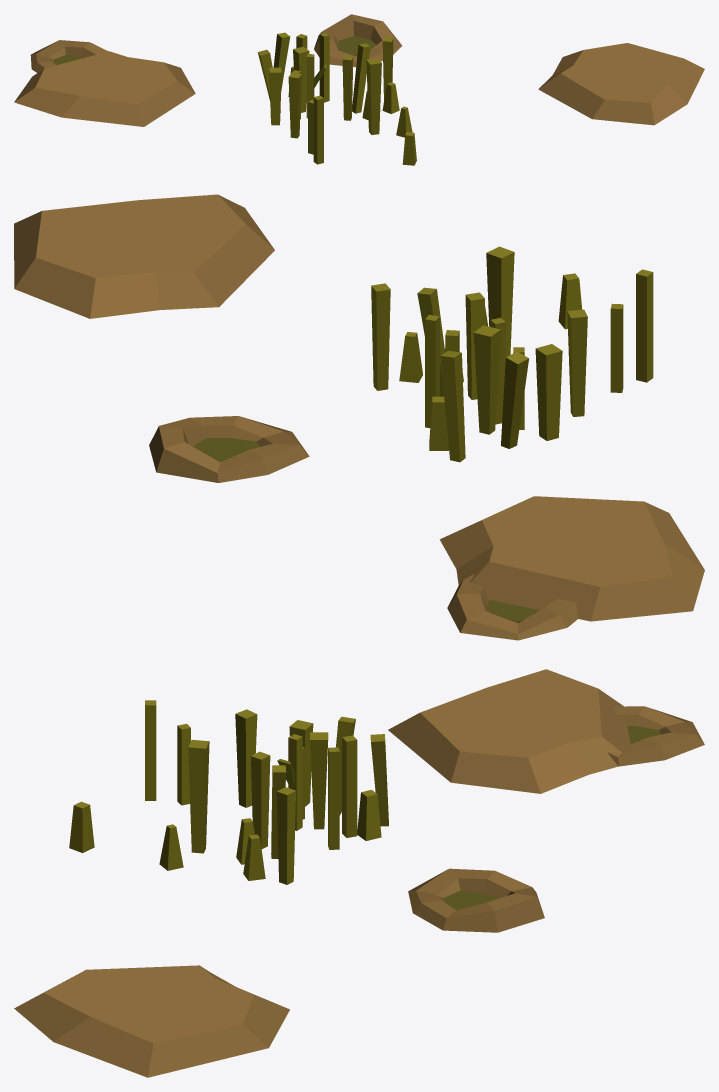
The model's file is SF_Env_Swamp_Preset_012.FBX.
3 views of the same model, one above another, from view 1: azimuth 30°, elevation 25°; view 2: azimuth 150°, elevation 25°; view 3: azimuth 270°, elevation 25° (orthographic). The views are drawn at different scales.
Visible parts, largest first — view 1: SF_Env_Swamp_Preset_012_Elements2, SF_Env_Swamp_Preset_012_Elements1, SF_Env_Swamp_Preset_012_Elements3, SF_Env_Swamp_Preset_012_Elements8, SF_Env_Swamp_Preset_012_Elements15, SF_Env_Swamp_Preset_012_Elements12, SF_Env_Swamp_Preset_012_Elements9, SF_Env_Swamp_Preset_012_Elements20, SF_Env_Swamp_Preset_012_Elements18, SF_Env_Swamp_Preset_012_Elements21, SF_Env_Swamp_Preset_012_Elements19, SF_Env_Swamp_Preset_012_Elements25 (+7 smaller); view 2: SF_Env_Swamp_Preset_012_Elements2, SF_Env_Swamp_Preset_012_Elements1, SF_Env_Swamp_Preset_012_Elements3, SF_Env_Swamp_Preset_012_Elements19, SF_Env_Swamp_Preset_012_Elements18, SF_Env_Swamp_Preset_012_Elements17, SF_Env_Swamp_Preset_012_Elements8, SF_Env_Swamp_Preset_012_Elements9, SF_Env_Swamp_Preset_012_Elements14, SF_Env_Swamp_Preset_012_Elements12, SF_Env_Swamp_Preset_012_Elements25, SF_Env_Swamp_Preset_012_Elements20 (+7 smaller); view 3: SF_Env_Swamp_Preset_012_Elements2, SF_Env_Swamp_Preset_012_Elements1, SF_Env_Swamp_Preset_012_Elements3, SF_Env_Swamp_Preset_012_Elements8, SF_Env_Swamp_Preset_012_Elements25, SF_Env_Swamp_Preset_012_Elements12, SF_Env_Swamp_Preset_012_Elements16, SF_Env_Swamp_Preset_012_Elements21, SF_Env_Swamp_Preset_012_Elements19, SF_Env_Swamp_Preset_012_Elements20, SF_Env_Swamp_Preset_012_Elements9, SF_Env_Swamp_Preset_012_Elements17 (+8 smaller).
Boxes of the visible parts, x1,y1,x2,y2 form: SF_Env_Swamp_Preset_012_Elements2: [14, 40, 195, 126]; SF_Env_Swamp_Preset_012_Elements1: [538, 43, 704, 125]; SF_Env_Swamp_Preset_012_Elements3: [314, 14, 401, 67]; SF_Env_Swamp_Preset_012_Elements8: [366, 58, 381, 134]; SF_Env_Swamp_Preset_012_Elements15: [352, 43, 370, 113]; SF_Env_Swamp_Preset_012_Elements12: [288, 72, 301, 138]; SF_Env_Swamp_Preset_012_Elements9: [313, 95, 323, 164]; SF_Env_Swamp_Preset_012_Elements20: [319, 32, 329, 102]; SF_Env_Swamp_Preset_012_Elements18: [269, 67, 281, 125]; SF_Env_Swamp_Preset_012_Elements21: [342, 55, 353, 120]; SF_Env_Swamp_Preset_012_Elements19: [293, 46, 309, 112]; SF_Env_Swamp_Preset_012_Elements25: [382, 37, 393, 100]; SF_Env_Swamp_Preset_012_Elements2: [440, 496, 704, 640]; SF_Env_Swamp_Preset_012_Elements1: [14, 194, 274, 318]; SF_Env_Swamp_Preset_012_Elements3: [149, 416, 309, 482]; SF_Env_Swamp_Preset_012_Elements19: [473, 325, 500, 434]; SF_Env_Swamp_Preset_012_Elements18: [535, 344, 562, 440]; SF_Env_Swamp_Preset_012_Elements17: [440, 350, 465, 462]; SF_Env_Swamp_Preset_012_Elements8: [486, 246, 514, 357]; SF_Env_Swamp_Preset_012_Elements9: [636, 269, 653, 382]; SF_Env_Swamp_Preset_012_Elements14: [501, 351, 528, 448]; SF_Env_Swamp_Preset_012_Elements12: [567, 309, 587, 416]; SF_Env_Swamp_Preset_012_Elements25: [371, 283, 390, 390]; SF_Env_Swamp_Preset_012_Elements20: [425, 314, 439, 428]; SF_Env_Swamp_Preset_012_Elements2: [388, 669, 704, 793]; SF_Env_Swamp_Preset_012_Elements1: [14, 965, 289, 1077]; SF_Env_Swamp_Preset_012_Elements3: [408, 868, 544, 932]; SF_Env_Swamp_Preset_012_Elements8: [188, 739, 209, 853]; SF_Env_Swamp_Preset_012_Elements25: [276, 787, 295, 884]; SF_Env_Swamp_Preset_012_Elements12: [235, 709, 257, 807]; SF_Env_Swamp_Preset_012_Elements16: [342, 735, 357, 837]; SF_Env_Swamp_Preset_012_Elements21: [251, 751, 270, 848]; SF_Env_Swamp_Preset_012_Elements19: [310, 732, 328, 829]; SF_Env_Swamp_Preset_012_Elements20: [328, 747, 339, 849]; SF_Env_Swamp_Preset_012_Elements9: [145, 700, 156, 800]; SF_Env_Swamp_Preset_012_Elements17: [370, 734, 388, 826].
Bounding box in the file's own units: 18.73 × 2.32 × 13.66.
